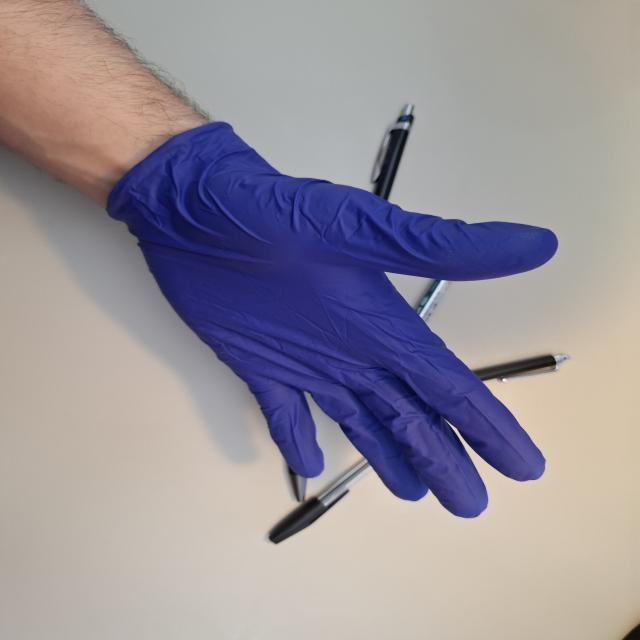glove_on: (103, 120, 564, 521)
